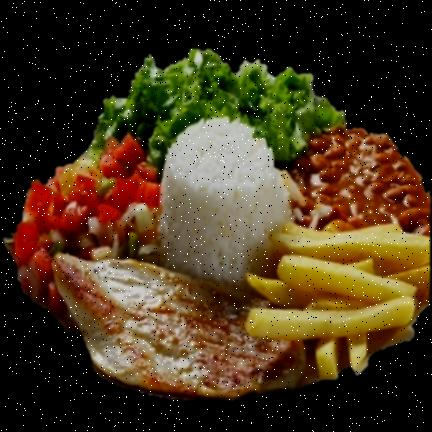beans: (291, 129, 431, 234)
chicken: (54, 254, 306, 398)
potato: (247, 223, 430, 381)
rice: (158, 117, 292, 292)
salad: (90, 49, 345, 175)
tomato: (4, 134, 160, 311)
